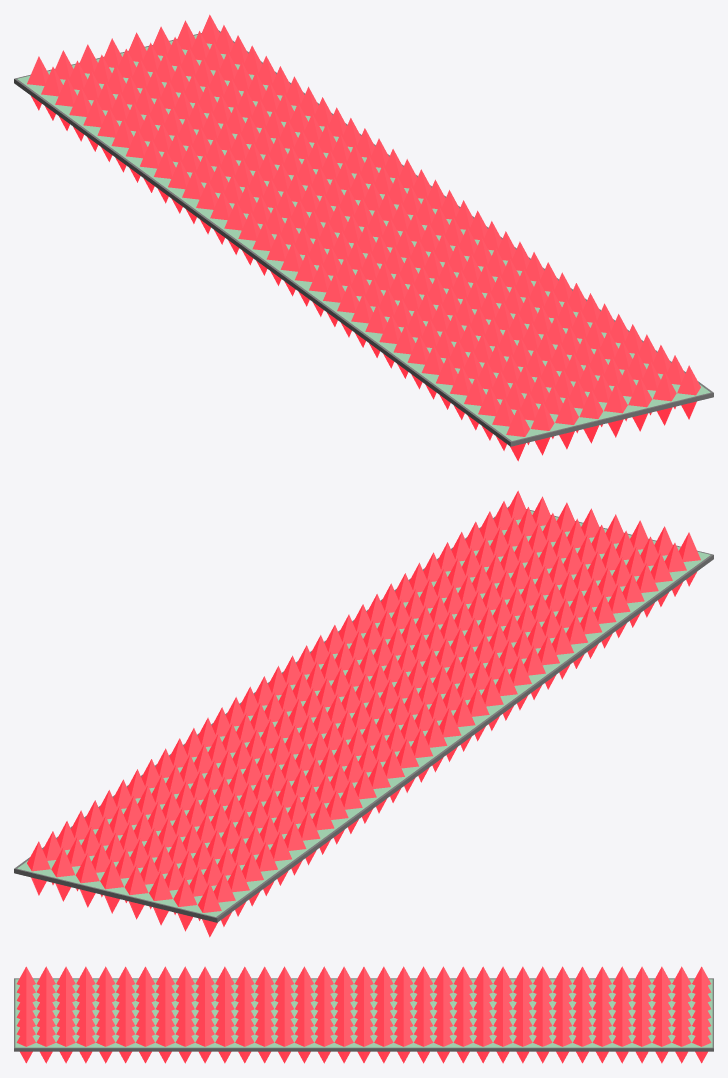
File: SpikeWallAsset.fbx
The picture shows the model from 3 angles, top to bottom: view 1: azimuth 30°, elevation 25°; view 2: azimuth 150°, elevation 25°; view 3: azimuth 270°, elevation 25°; orthographic projection. The views are drawn at different scales.
Visible parts, largest first — view 1: Cube.004; view 2: Cube.004; view 3: Cube.004.
Boxes of the visible parts, x1,y1,x2,y2 form: Cube.004: (14, 14, 713, 461); Cube.004: (14, 490, 713, 937); Cube.004: (14, 966, 713, 1063).
Size of the model in its own units: 1665 by 430 by 7048.
